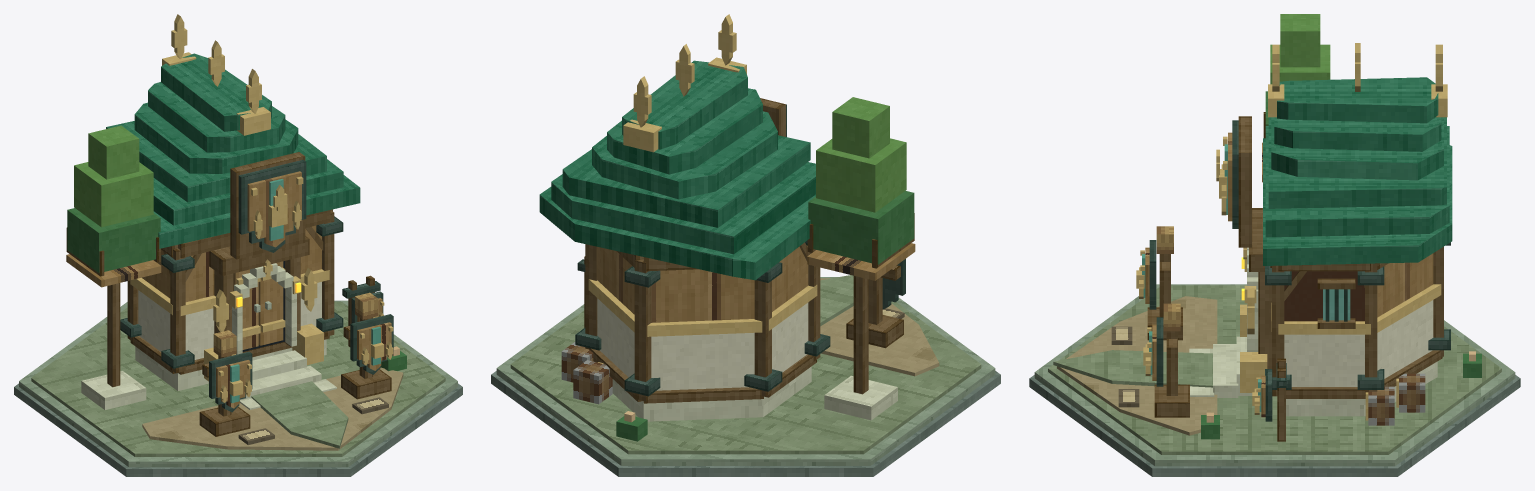
File: elf_guardian_hall_hex_v1.glb
The picture shows the model from 3 angles, left to right: view 1: azimuth 30°, elevation 25°; view 2: azimuth 150°, elevation 25°; view 3: azimuth 270°, elevation 25°; orthographic projection. The views are drawn at different scales.
Parts seen in each view (by area): view 1: Elf_Guardian_Hall_Hex_V1_Foundation, Elf_Guardian_Hall_Hex_V1_Hall, Elf_Guardian_Hall_Hex_V1_Roofs, Elf_Guardian_Hall_Hex_V1_Watchtower, Elf_Guardian_Hall_Hex_V1_Courtyard, Elf_Guardian_Hall_Hex_V1_Details, Elf_Guardian_Hall_Hex_V1_Training, Elf_Guardian_Hall_Hex_V1_Faction; view 2: Elf_Guardian_Hall_Hex_V1_Roofs, Elf_Guardian_Hall_Hex_V1_Foundation, Elf_Guardian_Hall_Hex_V1_Hall, Elf_Guardian_Hall_Hex_V1_Watchtower, Elf_Guardian_Hall_Hex_V1_Courtyard, Elf_Guardian_Hall_Hex_V1_Details, Elf_Guardian_Hall_Hex_V1_Training; view 3: Elf_Guardian_Hall_Hex_V1_Roofs, Elf_Guardian_Hall_Hex_V1_Foundation, Elf_Guardian_Hall_Hex_V1_Hall, Elf_Guardian_Hall_Hex_V1_Courtyard, Elf_Guardian_Hall_Hex_V1_Training, Elf_Guardian_Hall_Hex_V1_Details, Elf_Guardian_Hall_Hex_V1_Watchtower, Elf_Guardian_Hall_Hex_V1_Faction.
Part boxes in pixels (left/top/right/bottom): Elf_Guardian_Hall_Hex_V1_Foundation: left=14, top=300, right=462, bottom=476; Elf_Guardian_Hall_Hex_V1_Hall: left=120, top=152, right=343, bottom=390; Elf_Guardian_Hall_Hex_V1_Roofs: left=106, top=14, right=360, bottom=248; Elf_Guardian_Hall_Hex_V1_Watchtower: left=66, top=125, right=161, bottom=409; Elf_Guardian_Hall_Hex_V1_Courtyard: left=142, top=350, right=403, bottom=450; Elf_Guardian_Hall_Hex_V1_Details: left=208, top=40, right=406, bottom=371; Elf_Guardian_Hall_Hex_V1_Training: left=199, top=275, right=393, bottom=444; Elf_Guardian_Hall_Hex_V1_Faction: left=230, top=179, right=380, bottom=403; Elf_Guardian_Hall_Hex_V1_Roofs: left=539, top=14, right=815, bottom=280; Elf_Guardian_Hall_Hex_V1_Foundation: left=491, top=277, right=1000, bottom=476; Elf_Guardian_Hall_Hex_V1_Hall: left=575, top=98, right=830, bottom=421; Elf_Guardian_Hall_Hex_V1_Watchtower: left=807, top=97, right=915, bottom=420; Elf_Guardian_Hall_Hex_V1_Courtyard: left=820, top=275, right=939, bottom=376; Elf_Guardian_Hall_Hex_V1_Details: left=561, top=44, right=786, bottom=441; Elf_Guardian_Hall_Hex_V1_Training: left=577, top=256, right=905, bottom=348; Elf_Guardian_Hall_Hex_V1_Roofs: left=1263, top=44, right=1452, bottom=265; Elf_Guardian_Hall_Hex_V1_Foundation: left=1029, top=284, right=1520, bottom=476; Elf_Guardian_Hall_Hex_V1_Hall: left=1238, top=116, right=1450, bottom=416; Elf_Guardian_Hall_Hex_V1_Courtyard: left=1053, top=296, right=1252, bottom=435; Elf_Guardian_Hall_Hex_V1_Training: left=1111, top=226, right=1286, bottom=441; Elf_Guardian_Hall_Hex_V1_Details: left=1201, top=43, right=1481, bottom=439; Elf_Guardian_Hall_Hex_V1_Watchtower: left=1262, top=14, right=1330, bottom=182; Elf_Guardian_Hall_Hex_V1_Faction: left=1142, top=144, right=1261, bottom=411.
Size of the model in its own units: 1.59 by 1.46 by 1.84.
Materials: 1 (1 with a texture image).
